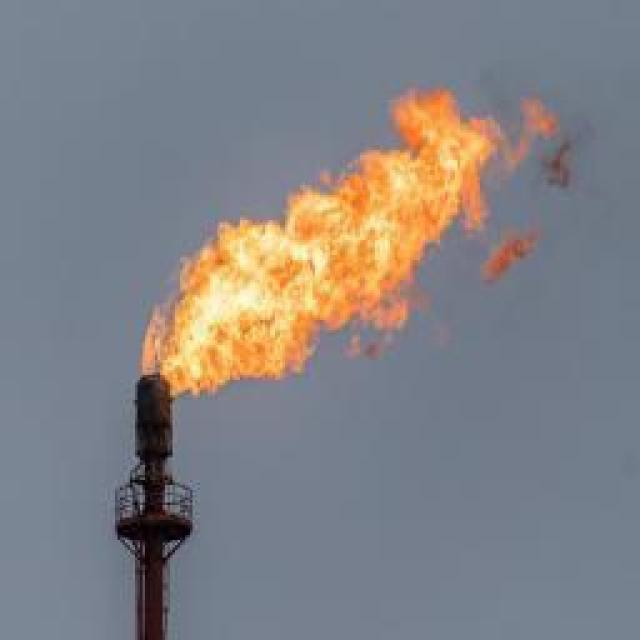fire: (141, 85, 553, 403), (483, 231, 537, 283), (344, 333, 361, 360), (361, 344, 382, 360)
smoke: (547, 135, 575, 187)
